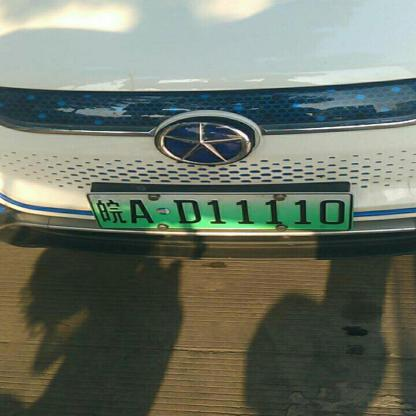lp: (88, 193, 350, 229)
